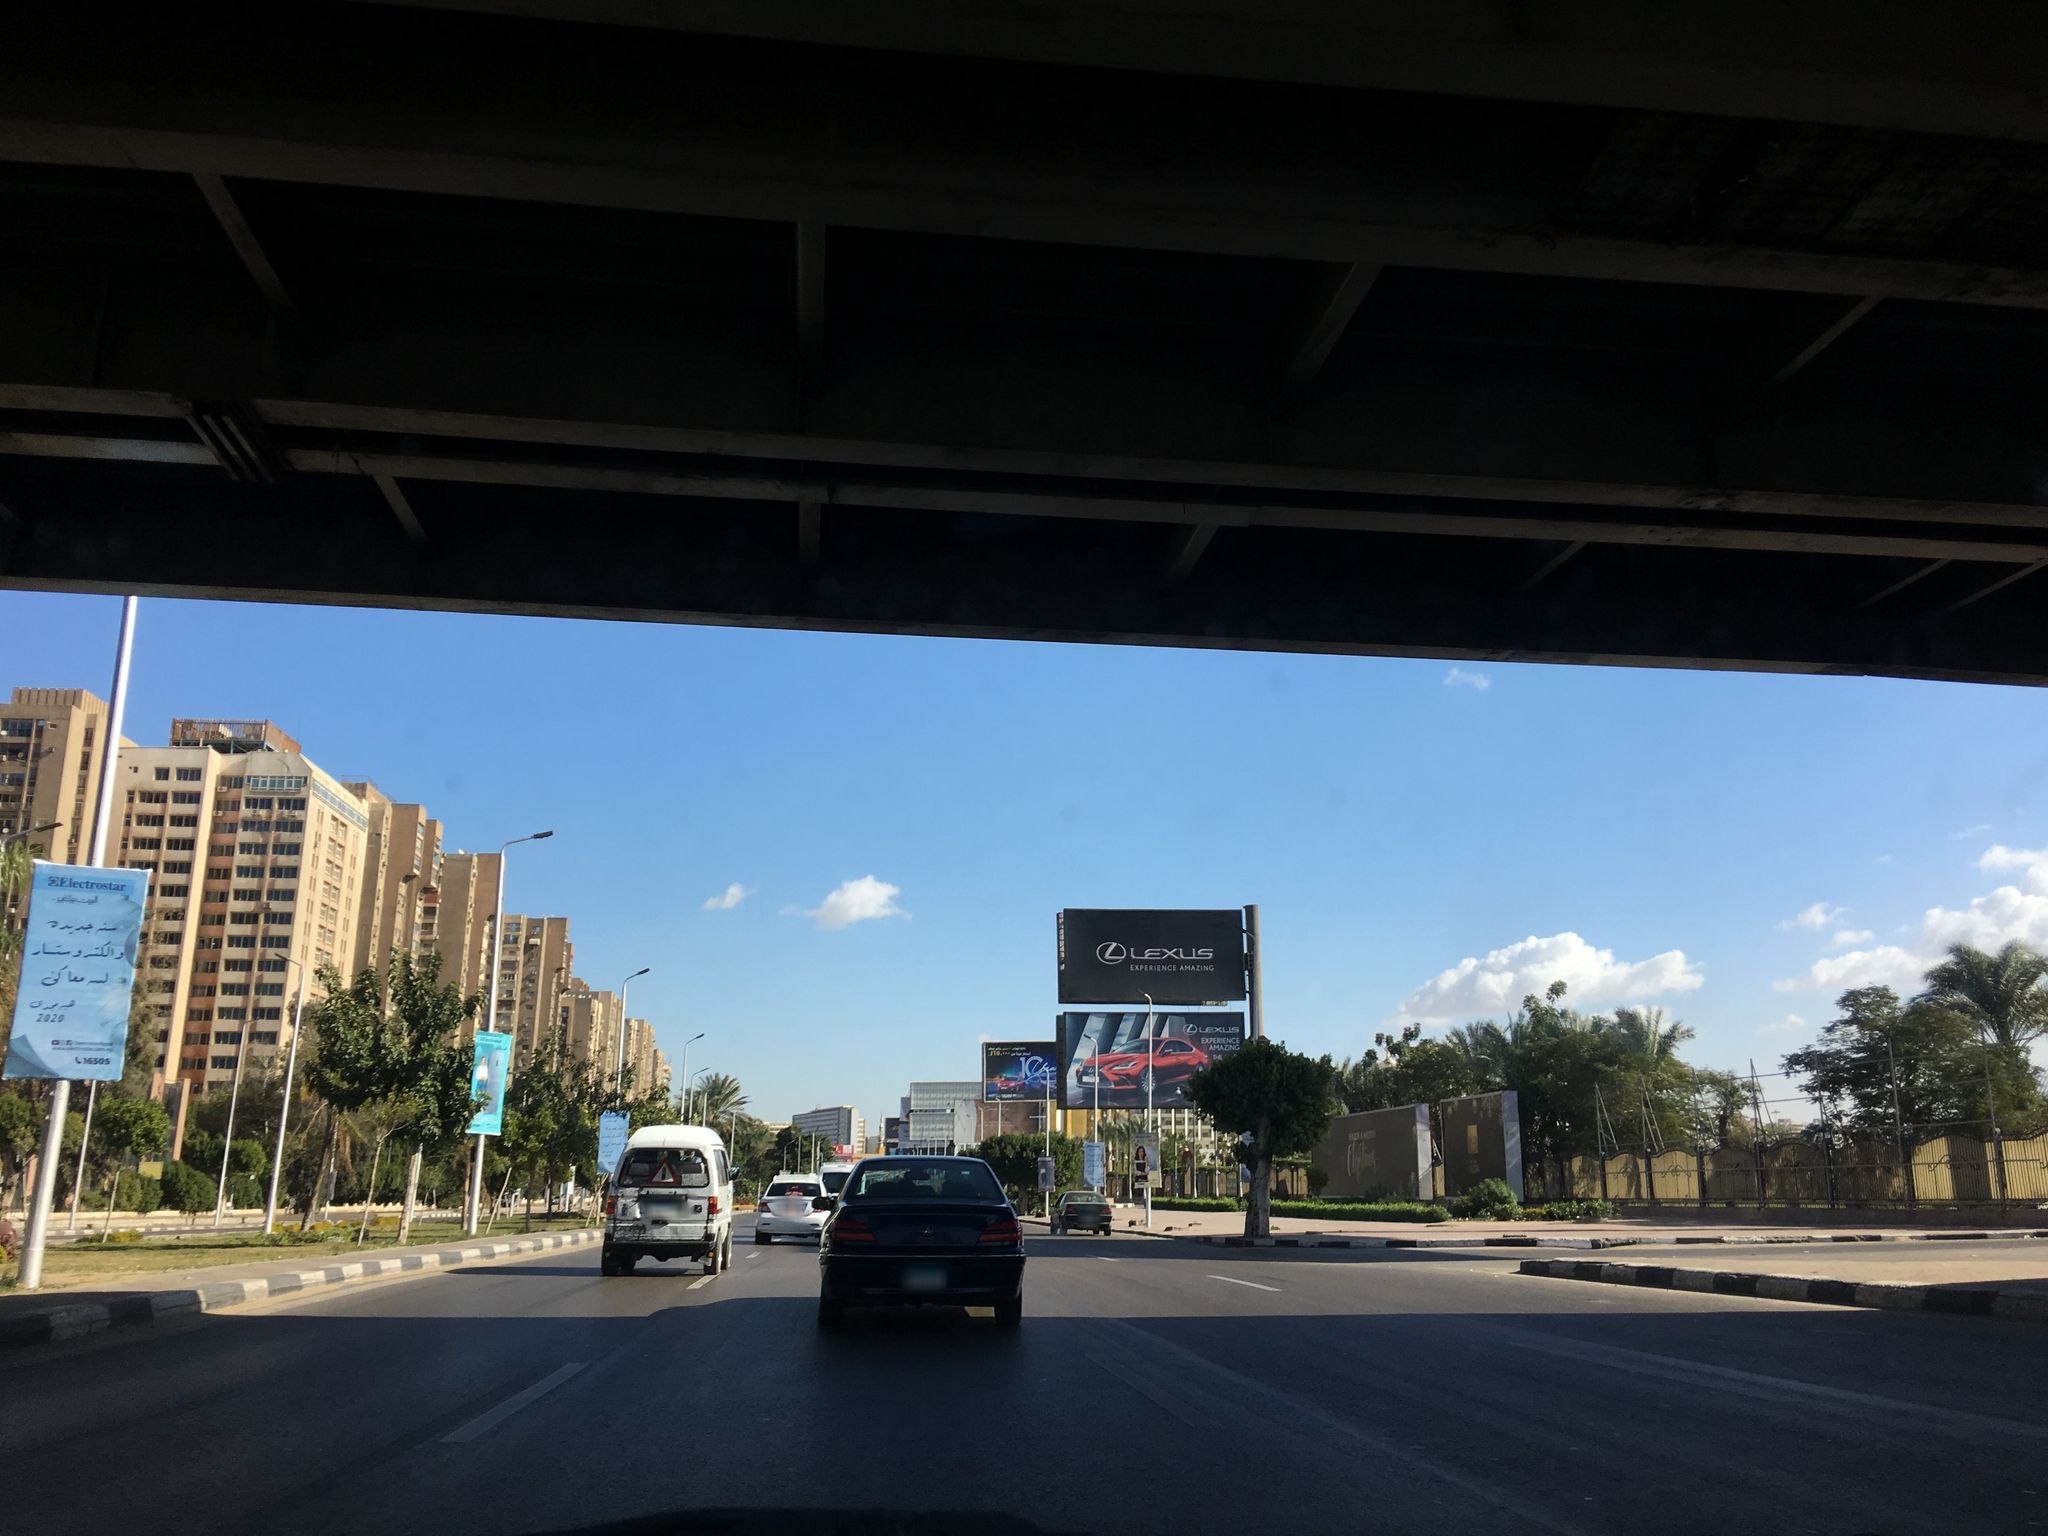car: (811, 1154, 1027, 1325), (597, 1121, 740, 1271), (751, 1173, 834, 1246), (1050, 1191, 1113, 1236), (818, 1165, 866, 1200)
